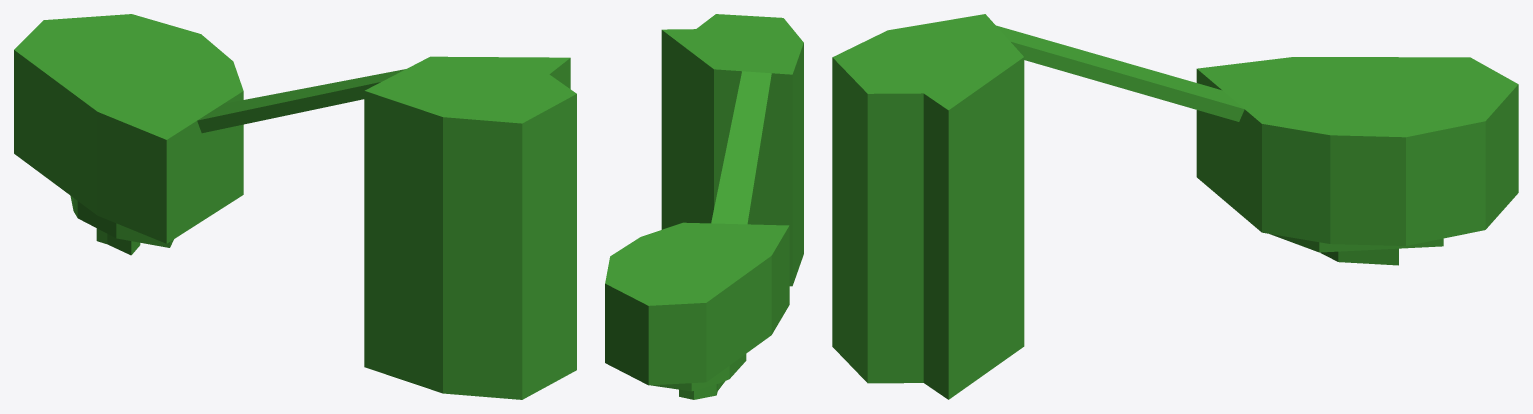
Rendered from island_with_bridge.glb.
3 views of the same model, side by side, from view 1: azimuth 30°, elevation 25°; view 2: azimuth 150°, elevation 25°; view 3: azimuth 270°, elevation 25° (orthographic). The views are drawn at different scales.
Bounding box in the file's own units: 20.6 × 17.64 × 37.89.
